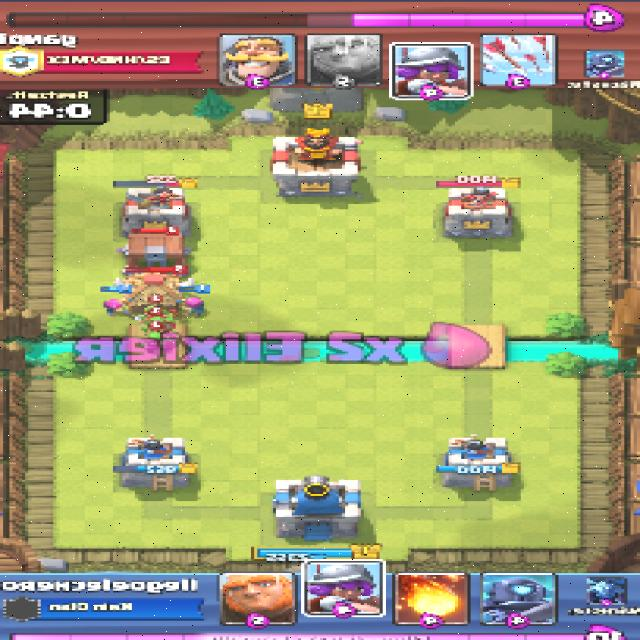Enemy-GoblinHut: (114, 273, 200, 314)
Enemy-SpearGoblin: (141, 334, 178, 353), (139, 320, 176, 336), (136, 306, 170, 323)
Player-Archer: (104, 296, 128, 313), (185, 298, 209, 315)
Player-GoblinCage: (120, 230, 191, 272)
